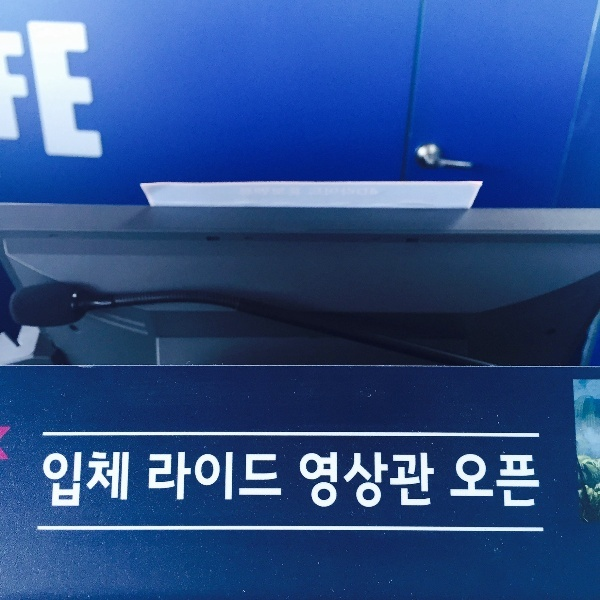text: (33, 17, 48, 165), (49, 17, 64, 165), (65, 17, 80, 165), (81, 17, 96, 165), (97, 17, 106, 165), (24, 17, 32, 165), (305, 451, 320, 511), (321, 451, 336, 511), (337, 451, 352, 511), (353, 451, 368, 511), (369, 451, 384, 511), (385, 451, 400, 511), (401, 451, 416, 511), (417, 451, 432, 511), (49, 451, 64, 510), (65, 451, 80, 510), (81, 451, 96, 510), (97, 451, 112, 510), (113, 451, 128, 510), (465, 453, 480, 510), (481, 453, 496, 510), (497, 453, 512, 510), (513, 453, 528, 510), (161, 451, 176, 502), (177, 451, 192, 502), (193, 451, 208, 502), (209, 451, 224, 502), (225, 451, 240, 502), (241, 451, 256, 502), (257, 451, 272, 502), (529, 453, 541, 510), (148, 451, 160, 502), (454, 453, 464, 510), (273, 451, 283, 502), (298, 451, 304, 511), (42, 451, 48, 510), (433, 451, 436, 511), (129, 451, 131, 510)
